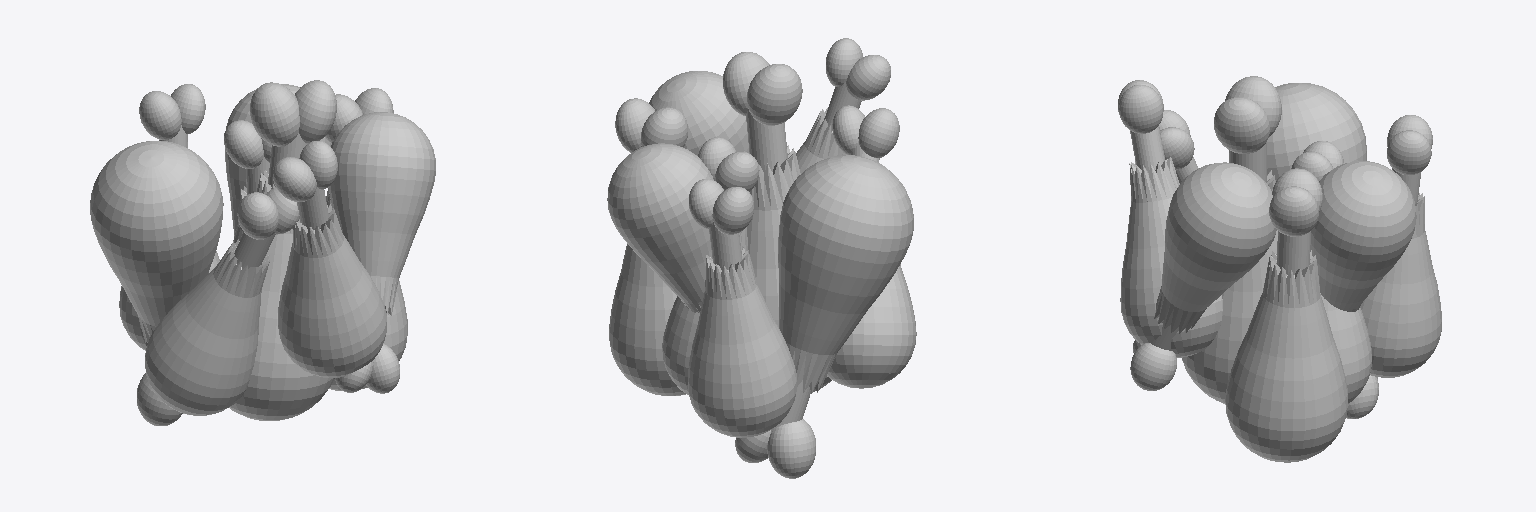
Rendered from chicken-drumstick-bunch_raw.obj.
The picture shows the model from 3 angles: view 1: azimuth 30°, elevation 25°; view 2: azimuth 150°, elevation 25°; view 3: azimuth 270°, elevation 25°; orthographic projection.
Visible parts, largest first — view 1: Bucket; view 2: Bucket; view 3: Bucket.
Boxes of the visible parts, x1=… form: Bucket: x1=90, y1=80, x2=435, y2=425; Bucket: x1=607, y1=38, x2=916, y2=478; Bucket: x1=1118, y1=76, x2=1441, y2=462.
Size of the model in its own units: 0.46 by 0.5374 by 0.4397.